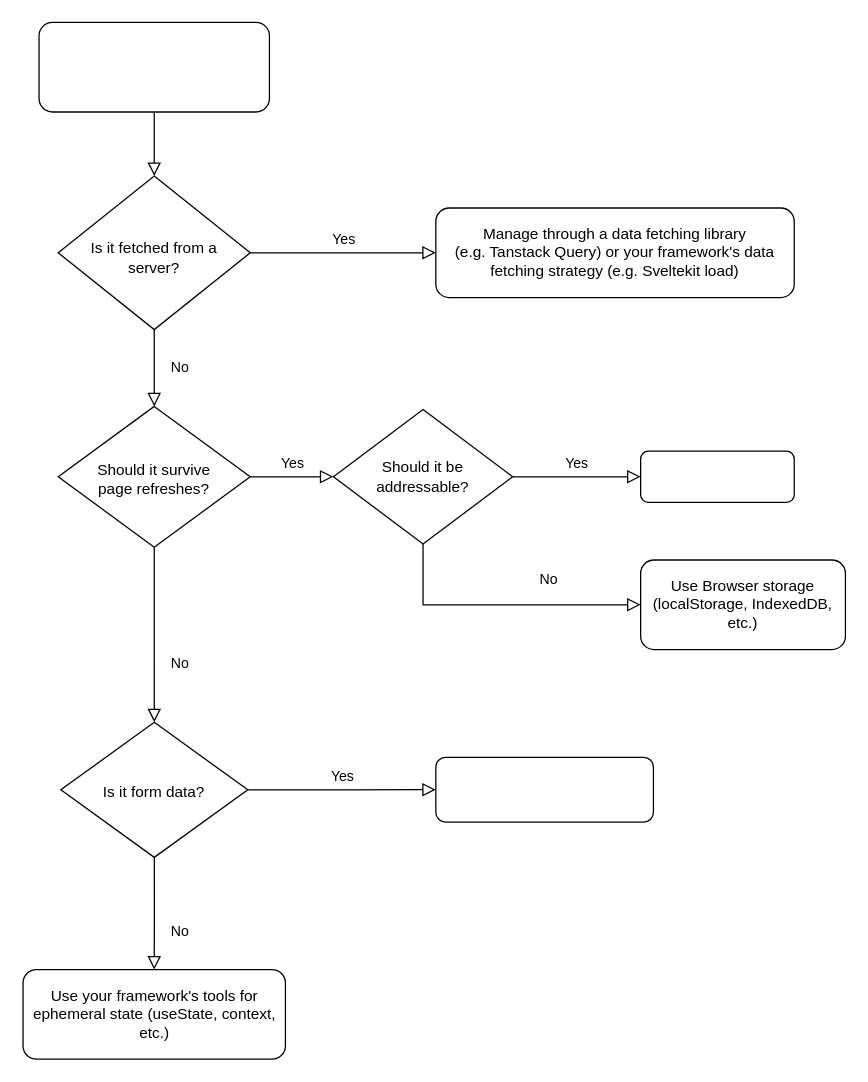
This 868x1082 diagram has some shape labels left out. Each missing label, with the box of its shape:
How should I manage some state in my client code?: (38, 21, 269, 112)
Manage in the URL: (639, 450, 794, 502)
Manage it through the form: (435, 756, 653, 822)
